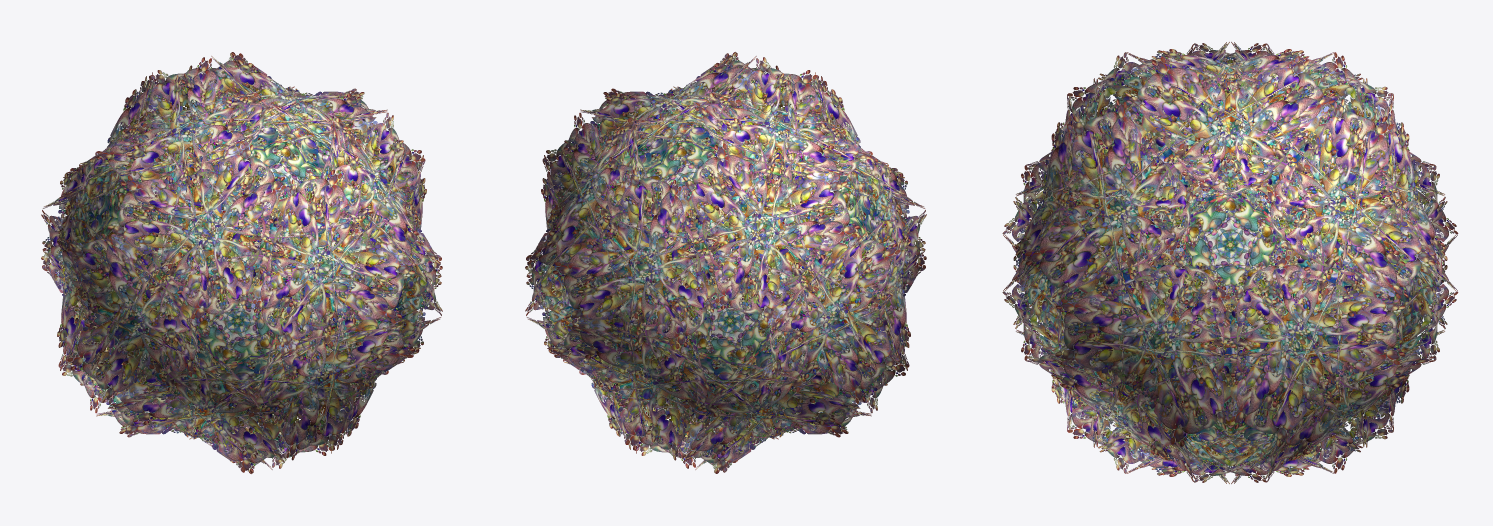
The model's file is GreatDodecacronicHexecontahedron.gltf.
The picture shows the model from 3 angles, left to right: view 1: azimuth 30°, elevation 25°; view 2: azimuth 150°, elevation 25°; view 3: azimuth 270°, elevation 25°; orthographic projection. The views are drawn at different scales.
Visible parts, largest first — view 1: GreatDodecacronicHexecontahedron9; view 2: GreatDodecacronicHexecontahedron9; view 3: GreatDodecacronicHexecontahedron9.
Boxes of the visible parts, x1=… form: GreatDodecacronicHexecontahedron9: x1=41, y1=52, x2=442, y2=473; GreatDodecacronicHexecontahedron9: x1=525, y1=52, x2=926, y2=473; GreatDodecacronicHexecontahedron9: x1=1002, y1=42, x2=1458, y2=483.
Size of the model in its own units: 1.24 by 1.24 by 1.24.
1 material, 1 textured.
